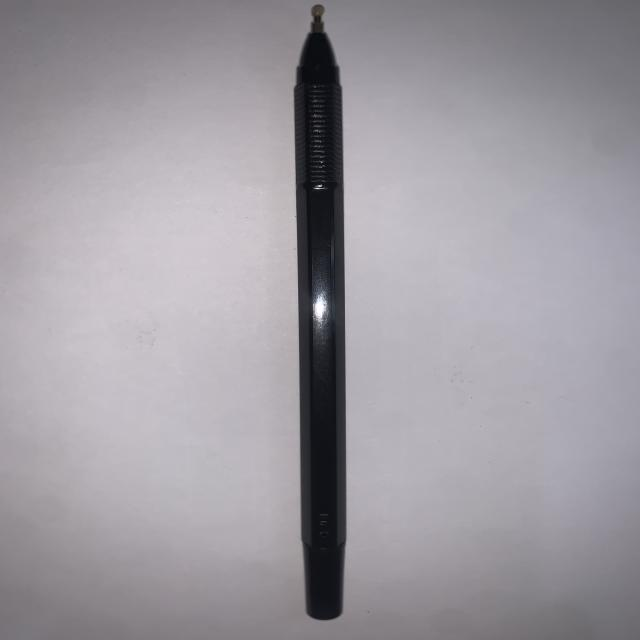Pulpen: (278, 0, 384, 636)
